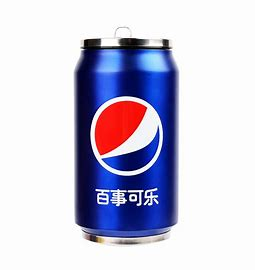Pepsi: (72, 35, 182, 245)
